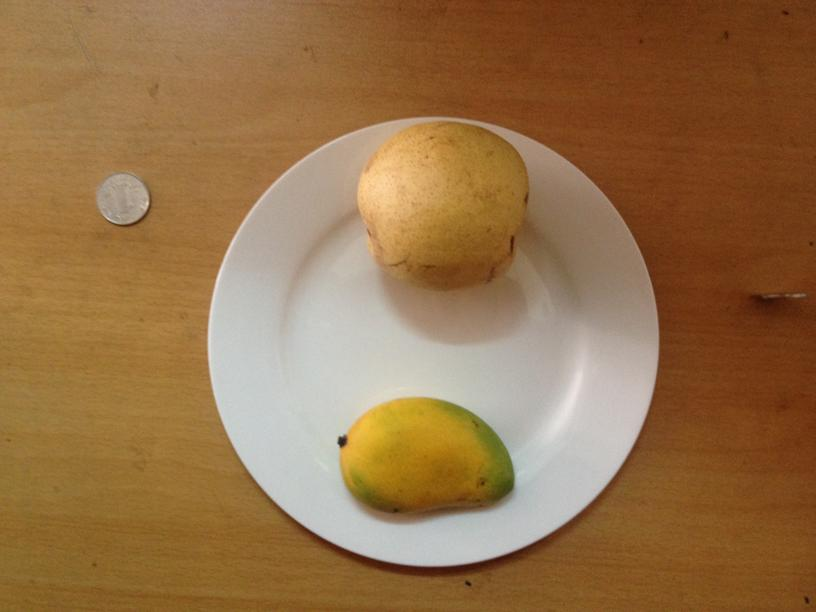coin: (93, 172, 151, 226)
mango: (337, 394, 514, 516)
pear: (357, 121, 527, 287)
